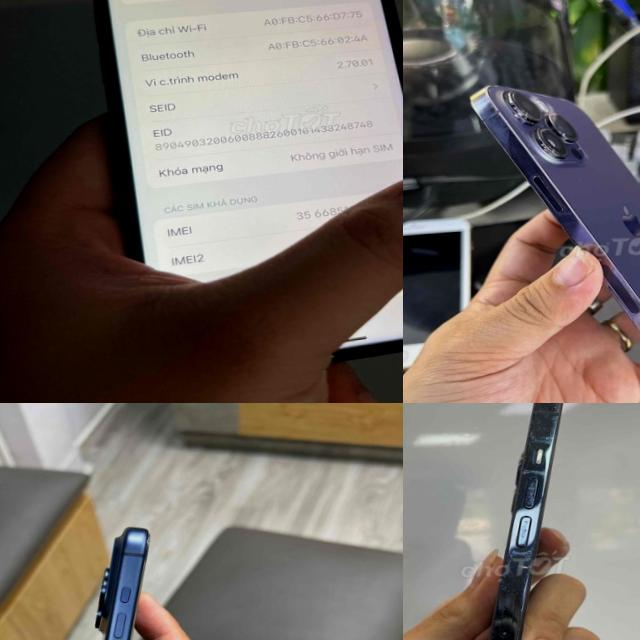gen_12_13: (82, 0, 403, 379), (435, 403, 628, 640)
gen_14: (473, 71, 640, 403)
gen_17: (38, 516, 168, 640)
